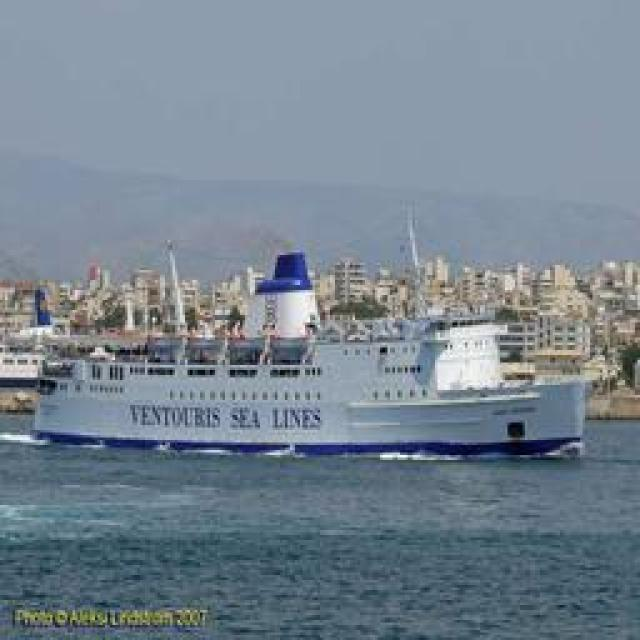ship2: (32, 257, 592, 461)
